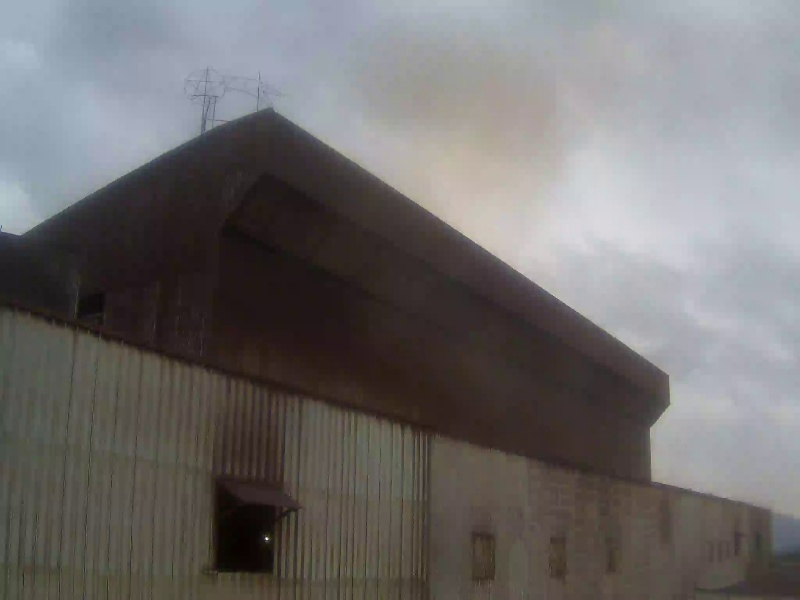bom: (627, 49, 800, 304), (627, 217, 800, 472), (12, 9, 281, 150)
ruim: (359, 32, 539, 263)
